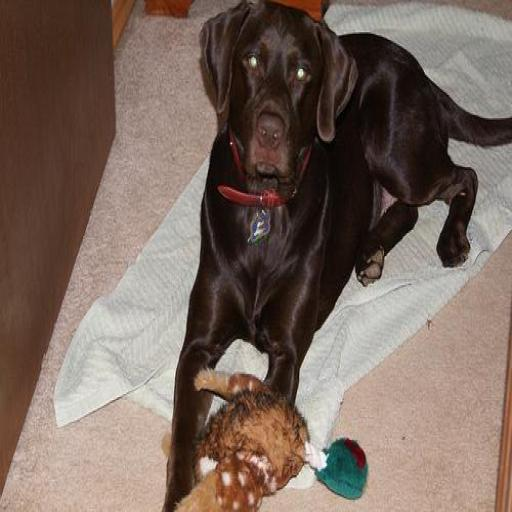dog_face: (199, 0, 346, 179)
